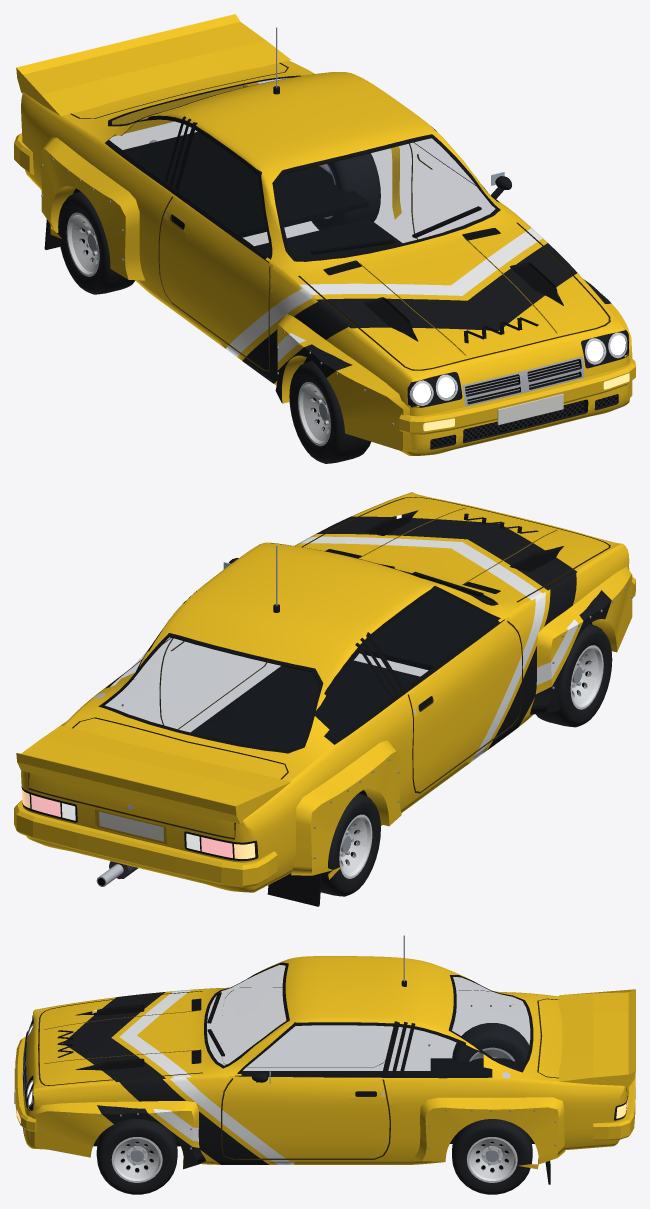
The model's file is car_rally_yellow.glb.
3 views of the same model, one above another, from view 1: azimuth 30°, elevation 25°; view 2: azimuth 150°, elevation 25°; view 3: azimuth 270°, elevation 25° (orthographic). The views are drawn at different scales.
Parts seen in each view (by area): view 1: body, wheel_fl, wheel_rl, wheel_rr; view 2: body, wheel_fl, wheel_rl; view 3: body, wheel_fr, wheel_rr, wheel_rl.
Boxes of the visible parts, box(x1,y1,x2,y2) form: body: box(14, 14, 635, 455); wheel_fl: box(289, 360, 370, 463); wheel_rl: box(58, 191, 135, 294); wheel_rr: box(311, 153, 380, 230); body: box(14, 492, 635, 906); wheel_fl: box(536, 624, 612, 727); wheel_rl: box(320, 793, 380, 896); body: box(14, 935, 635, 1184); wheel_fr: box(96, 1119, 177, 1194); wheel_rr: box(452, 1119, 532, 1194); wheel_rl: box(452, 1023, 529, 1061).
Size of the model in its own units: 1.77 by 1.65 by 4.42.
